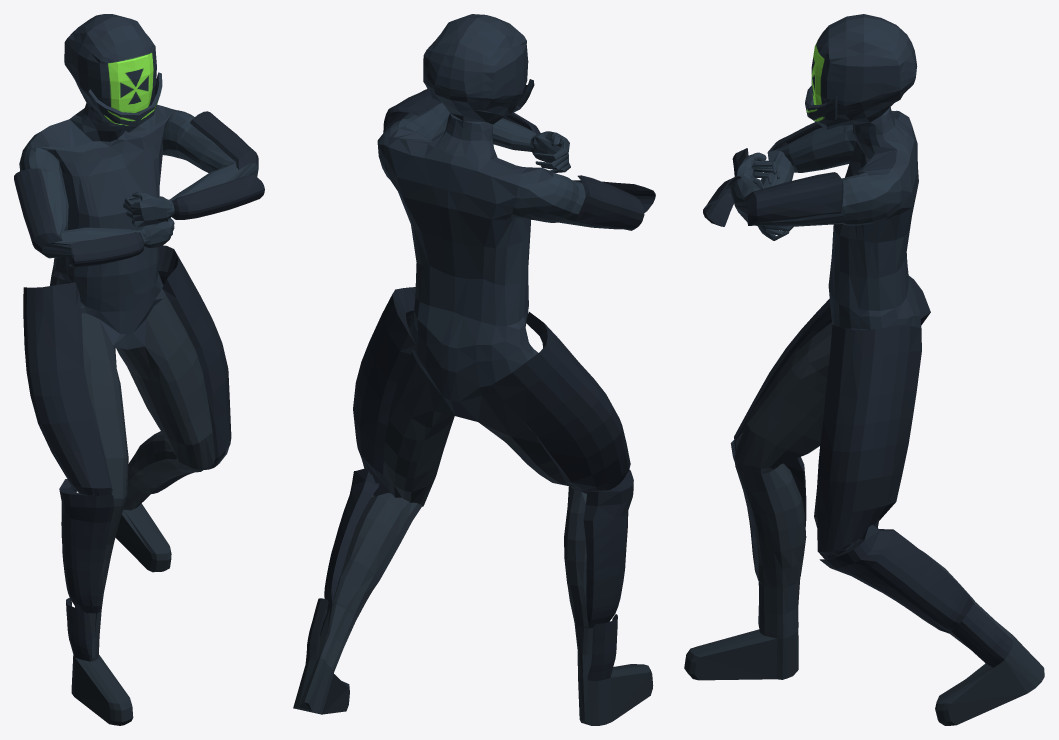
The model's file is Bastion_WF_000006.obj.
The picture shows the model from 3 angles, left to right: view 1: azimuth 30°, elevation 25°; view 2: azimuth 150°, elevation 25°; view 3: azimuth 270°, elevation 25°; orthographic projection. The views are drawn at different scales.
Parts seen in each view (by area): view 1: Cube.002; view 2: Cube.002; view 3: Cube.002.
Boxes of the visible parts, box(x1,y1,x2,y2) form: Cube.002: box(14, 14, 264, 725); Cube.002: box(293, 14, 655, 725); Cube.002: box(684, 14, 1044, 725).
Bounding box in the file's own units: 1.38 × 3.69 × 1.74.
